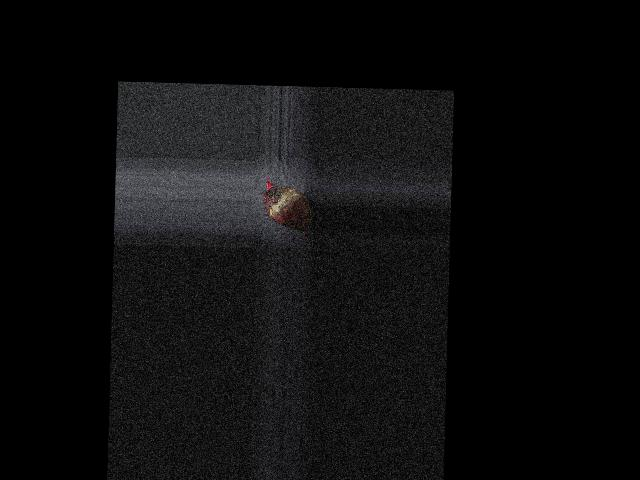beet: (260, 177, 312, 239)
